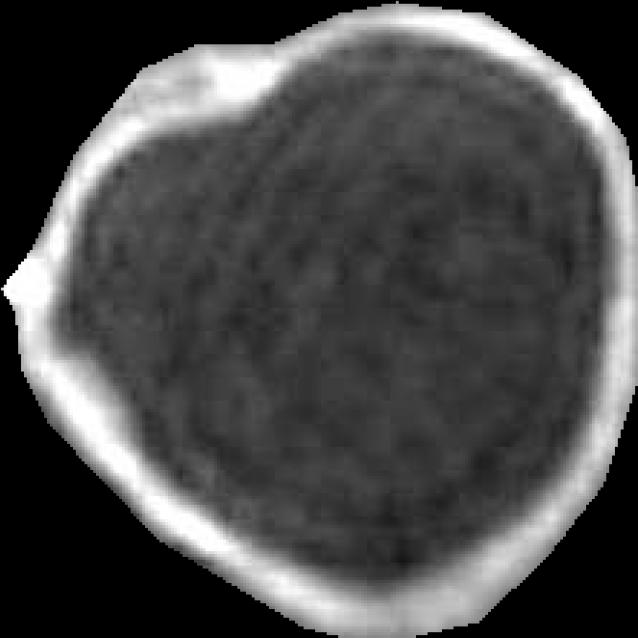tumor_moderate_chance: (1, 1, 638, 638)
